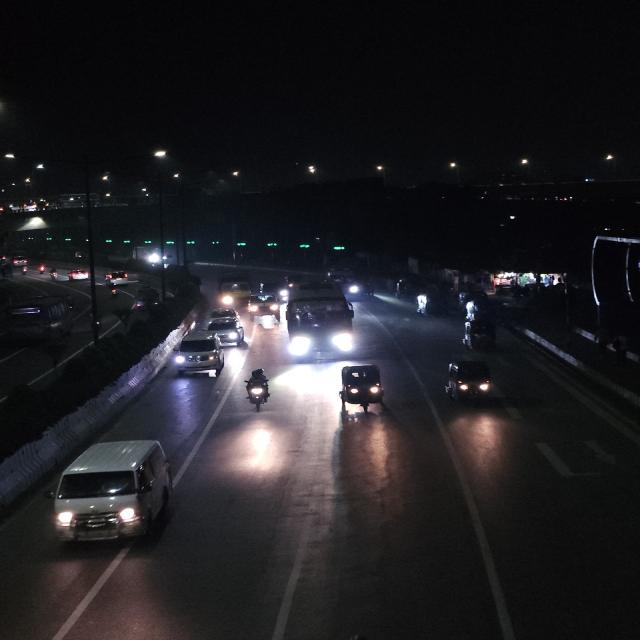bus: (284, 282, 356, 364), (3, 293, 77, 343)
car: (47, 432, 177, 554), (171, 331, 225, 378), (206, 307, 247, 348), (250, 296, 280, 330), (102, 270, 130, 286), (66, 269, 90, 282)
cng: (332, 361, 390, 415), (442, 356, 495, 408), (462, 315, 499, 351)
motorcycle: (242, 367, 272, 412), (108, 283, 120, 299)
pedestrian: (412, 291, 453, 317)
truck: (215, 274, 253, 308)
